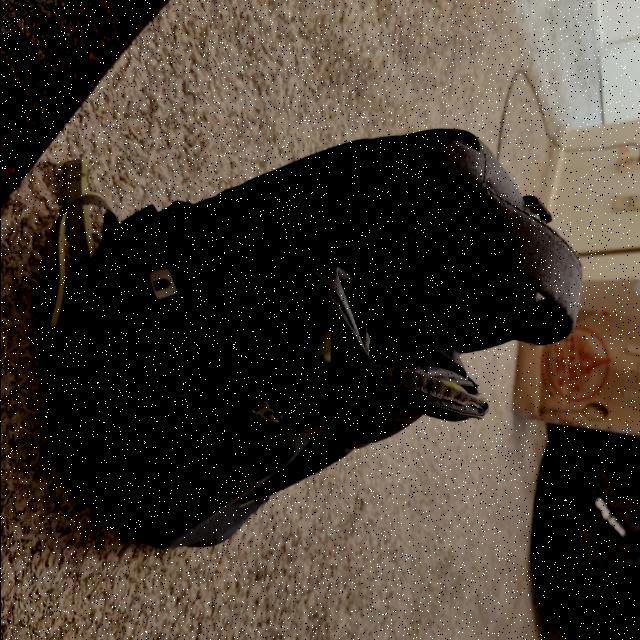bag: (56, 158, 562, 542)
